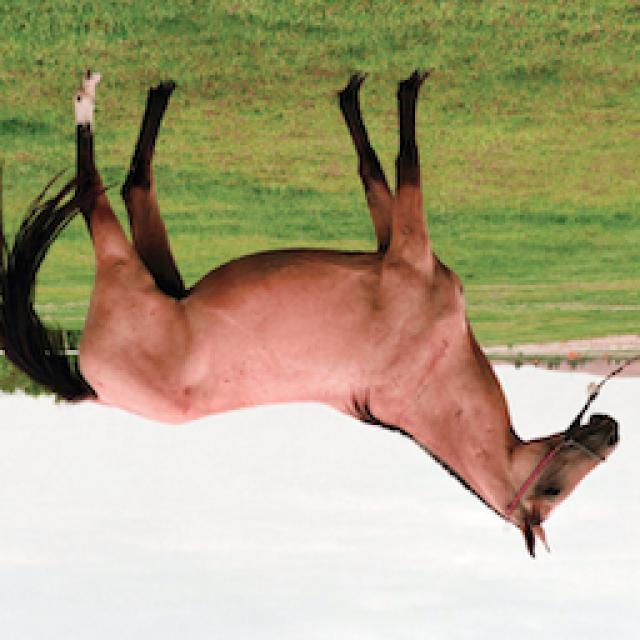Horse: (2, 62, 630, 566)
